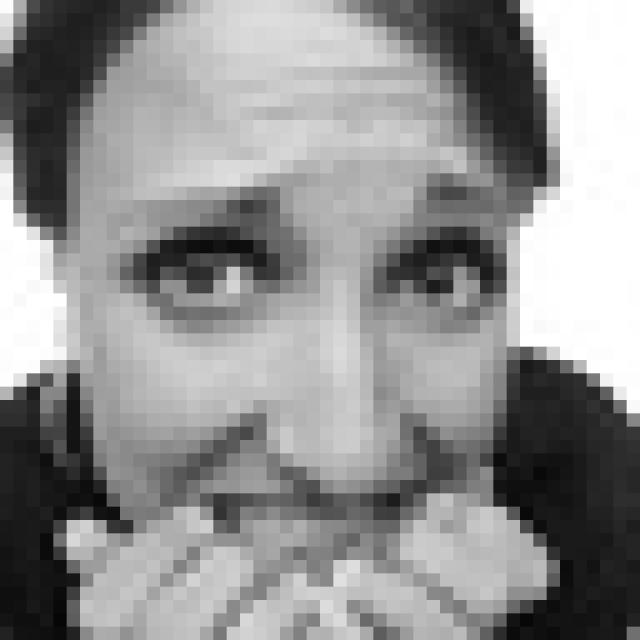fear: (116, 161, 502, 612)
